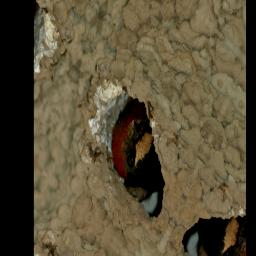Swallow: (99, 90, 183, 211)
